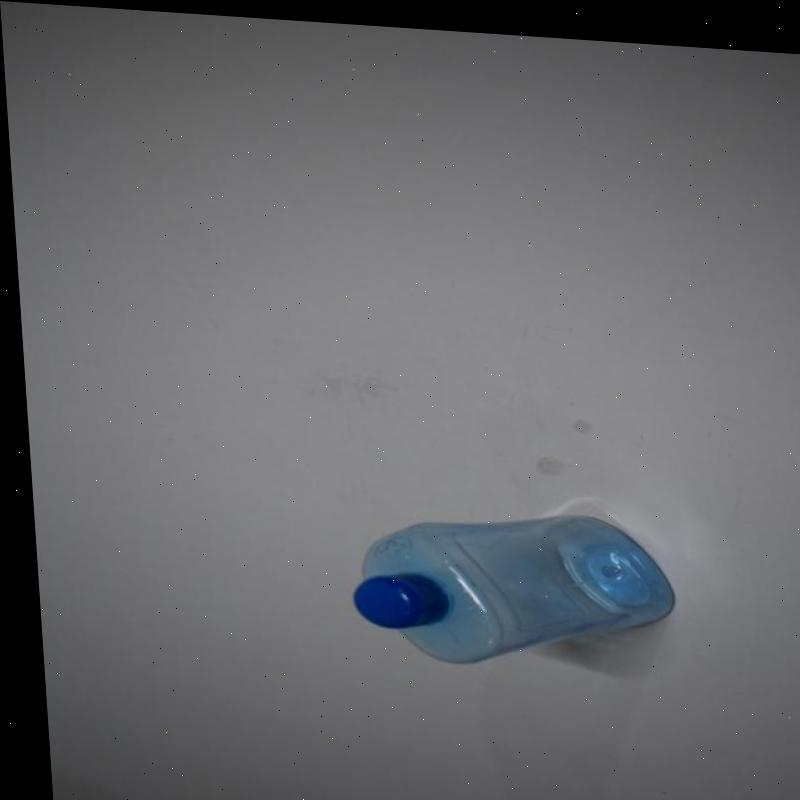botella: (337, 491, 671, 668)
